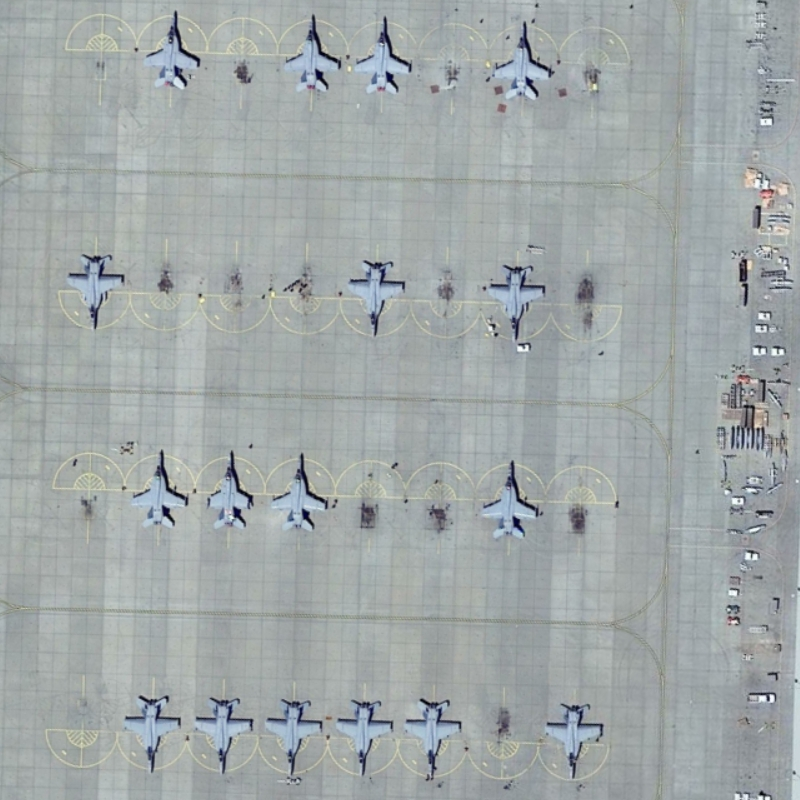A16: (484, 260, 550, 345), (487, 19, 553, 102), (400, 697, 464, 782), (63, 250, 128, 333), (267, 450, 330, 535), (477, 459, 541, 542), (345, 256, 407, 341), (282, 10, 343, 96), (123, 690, 184, 776), (543, 701, 606, 783), (193, 695, 256, 777), (352, 12, 412, 97), (140, 8, 201, 91), (128, 447, 189, 530), (264, 696, 325, 777), (335, 697, 395, 779), (203, 447, 255, 532)
